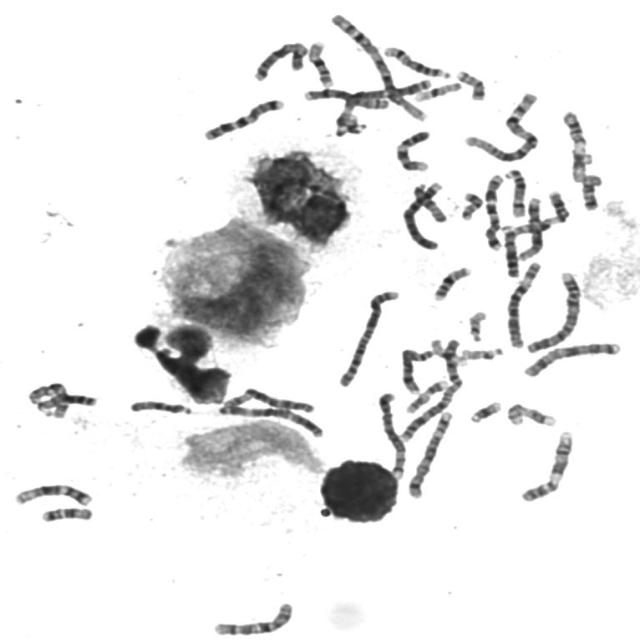A1: (326, 10, 431, 124), (461, 88, 542, 164)
A2: (394, 333, 468, 443), (334, 286, 401, 388)
A3: (333, 78, 433, 139), (216, 401, 325, 440)
B4: (522, 269, 584, 354), (399, 179, 446, 251)
B5: (404, 407, 454, 500), (374, 388, 409, 480)
C10: (209, 599, 296, 637), (24, 379, 72, 418)
C11: (513, 188, 571, 237), (558, 107, 590, 184)
C12: (10, 480, 94, 508), (515, 194, 546, 262)
C6: (503, 258, 544, 350), (217, 384, 317, 415)
C7: (199, 95, 286, 142), (480, 171, 506, 252)
C8: (301, 85, 390, 111), (396, 344, 436, 395)
C9: (516, 426, 576, 504), (392, 127, 433, 173)
D13: (499, 221, 523, 279), (32, 391, 98, 412)
D14: (379, 42, 452, 80), (501, 165, 529, 219)
D15: (409, 180, 449, 225), (126, 397, 195, 416)
E16: (429, 263, 474, 302), (304, 37, 337, 88)
E17: (403, 376, 450, 415), (503, 399, 559, 428)
E18: (37, 504, 94, 523), (578, 171, 602, 212)
F19: (410, 78, 464, 103), (428, 338, 469, 367)
F20: (452, 67, 487, 102), (457, 189, 485, 221)
G21: (465, 398, 504, 424), (344, 114, 368, 135)
G22: (464, 307, 488, 343), (457, 344, 506, 361)
X: (519, 338, 623, 379), (249, 39, 309, 83)
